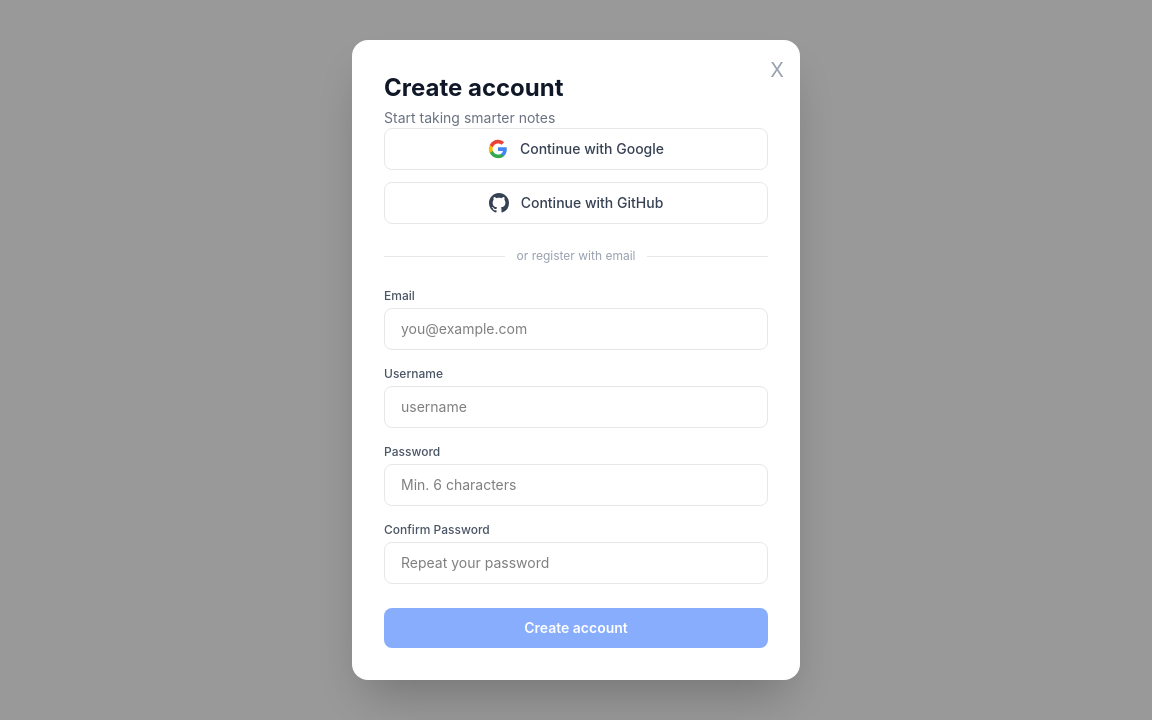
Test: Register modal › shows error when passwords length is less than 6 characters
Type "test@example.com" into the field with placeholder "you@example.com".
click(576, 329); type("test@example.com")  # box [384, 308, 768, 350]
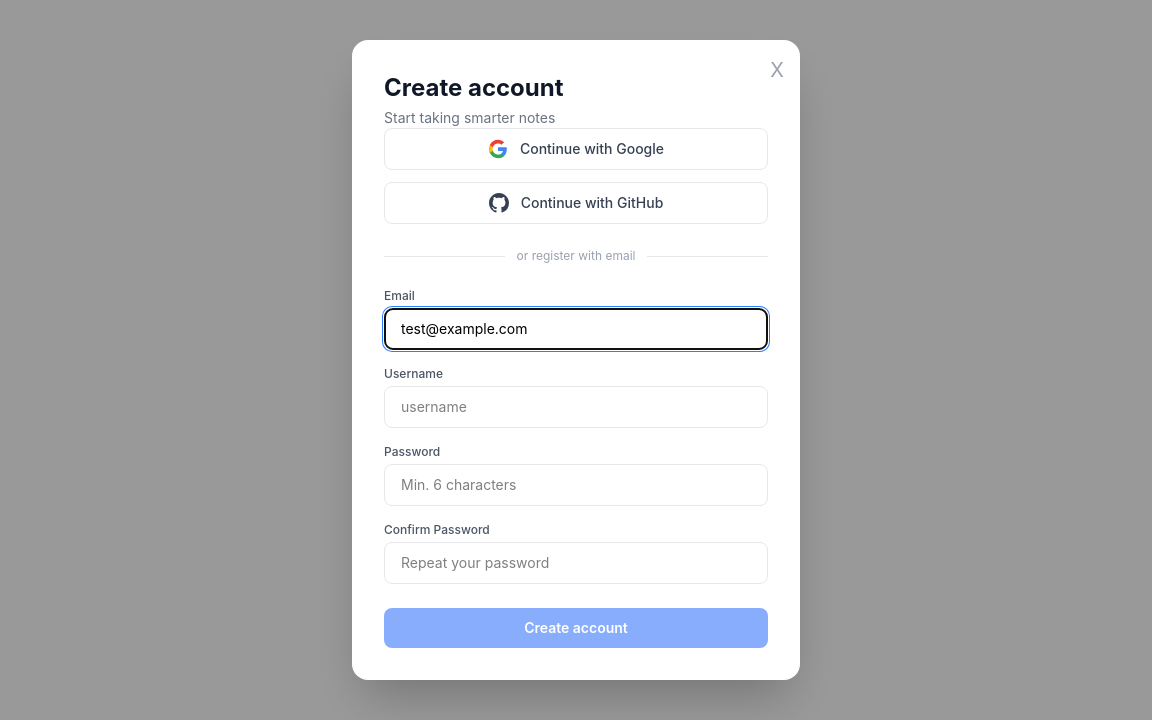
Type "testuser" into the field with placeholder "username".
click(576, 407); type("testuser")  # box [384, 386, 768, 428]
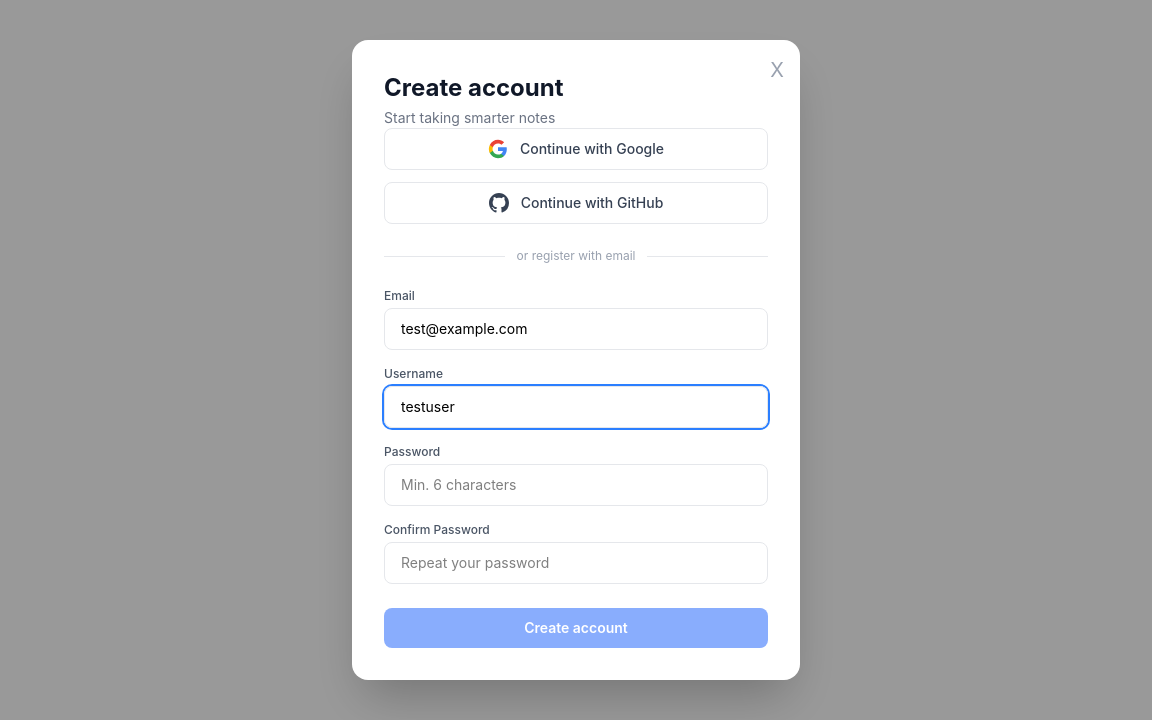
Type "pass1" into the password field with placeholder "Min. 6 characters".
click(576, 485); type("pass1")  # box [384, 464, 768, 506]
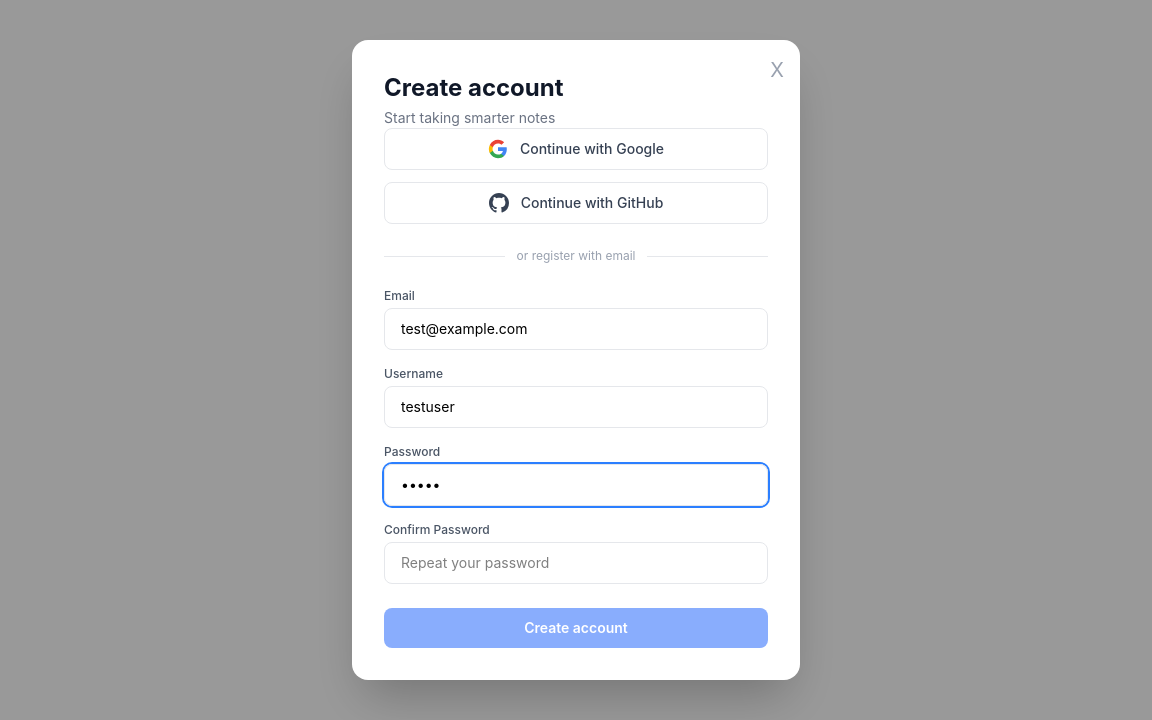
Type "pass1" into the password field with placeholder "Repeat your password".
click(576, 563); type("pass1")  # box [384, 542, 768, 584]
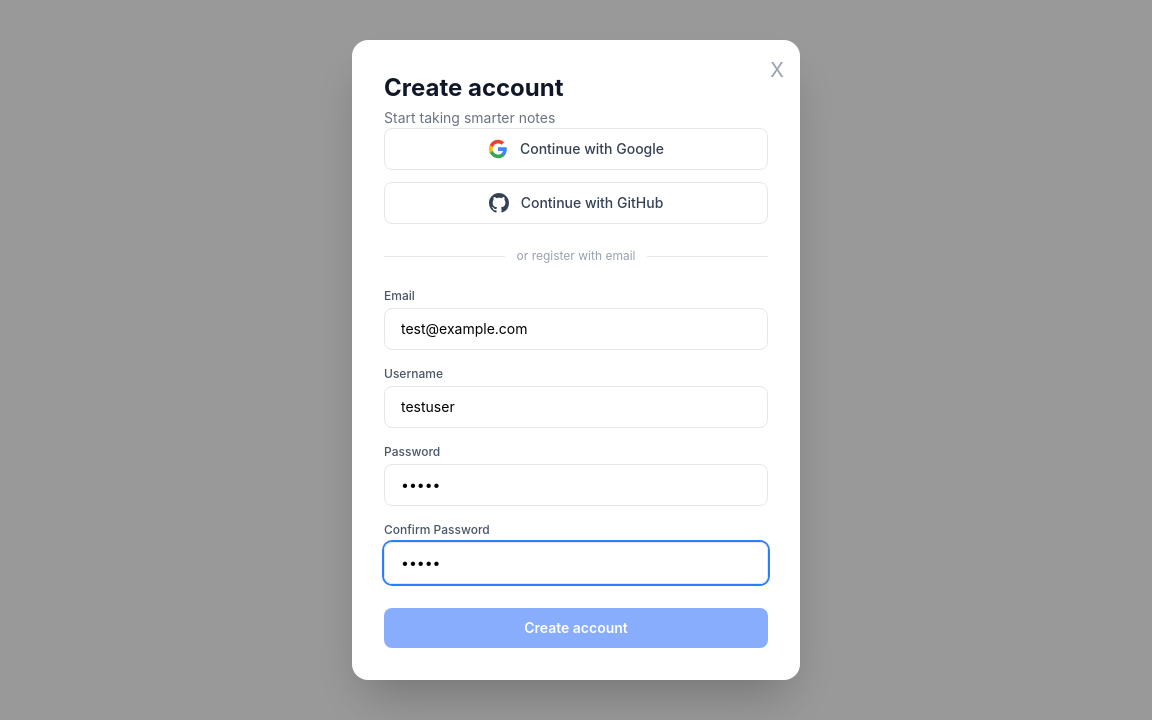
Click the button "Create account".
click(576, 628)  # box [384, 608, 768, 648]
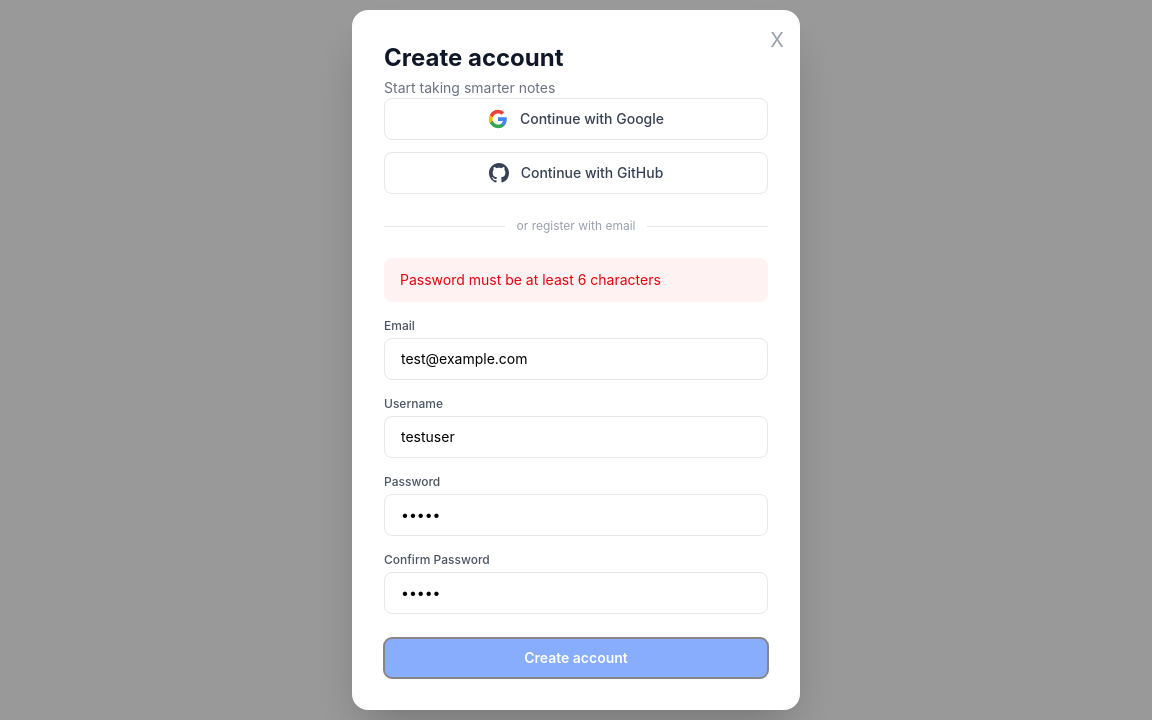
Expected: the text "Password must be at least 6 characters" is shown, [384, 258, 768, 302]
